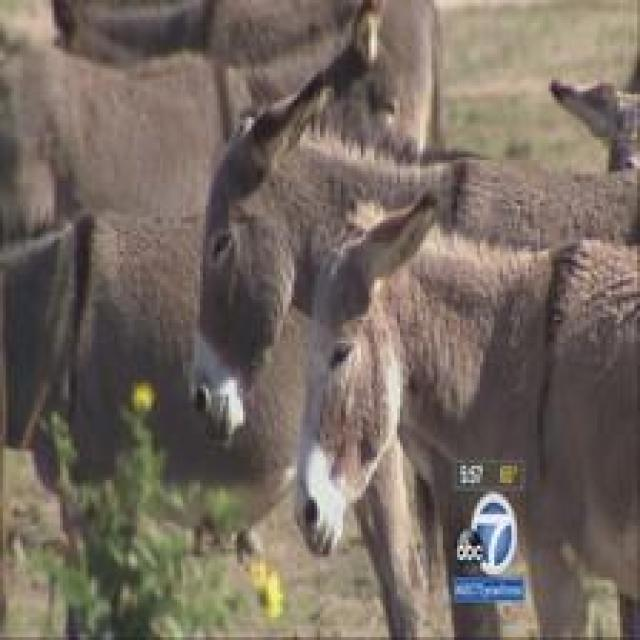Donkey: (0, 0, 443, 637), (194, 3, 637, 380), (292, 183, 637, 637), (0, 208, 311, 637), (46, 0, 443, 154), (0, 34, 263, 234)
